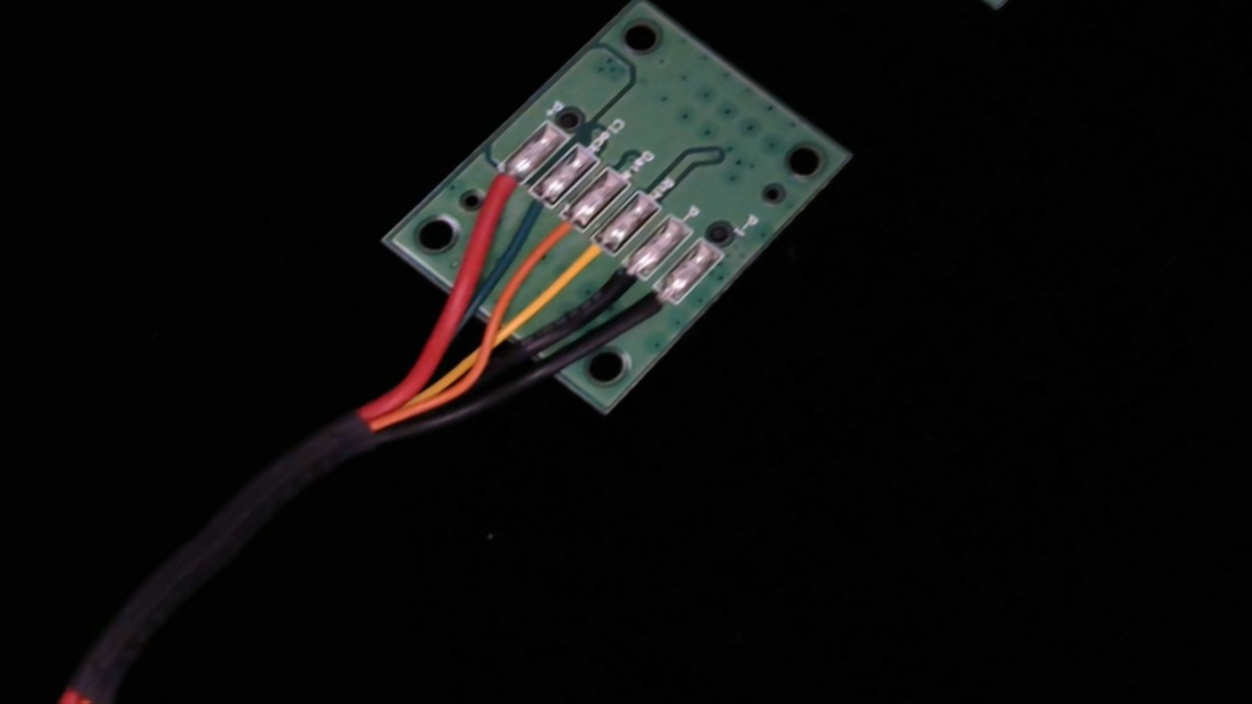Black: (576, 250, 659, 323)
Black1: (617, 276, 690, 341)
Green: (494, 178, 571, 243)
Orange: (520, 200, 599, 268)
Red: (456, 157, 535, 223)
Yellow: (547, 226, 626, 295)
